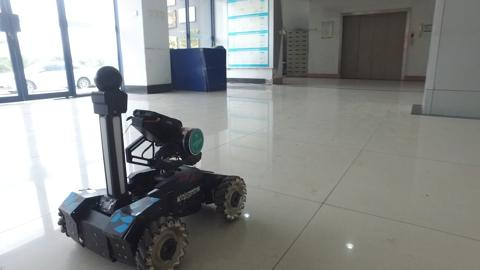chariot: (45, 62, 255, 270)
